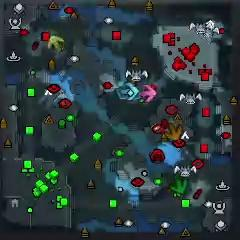x1: (140, 85, 157, 102)
x2: (48, 34, 65, 52)
x3: (120, 81, 138, 102)
x4: (171, 175, 187, 192)
x5: (164, 123, 184, 141)
